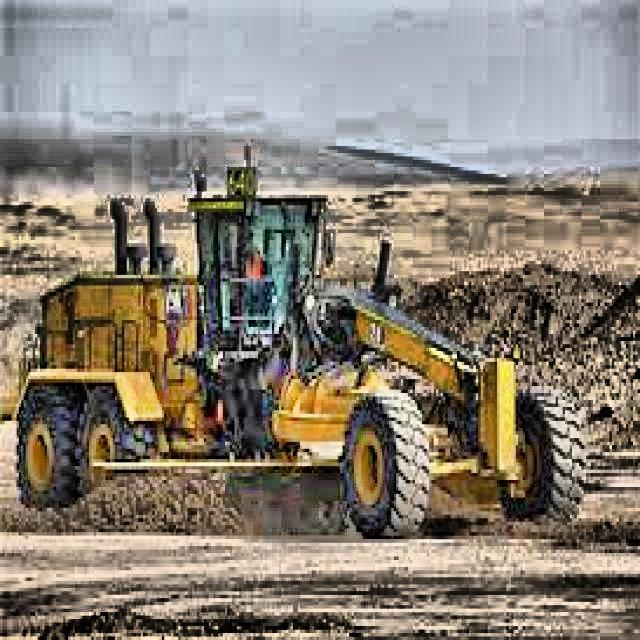bull_dozer/loader/grader: (11, 135, 590, 545)
person: (243, 238, 265, 282)
